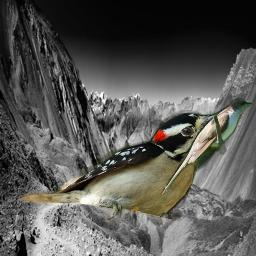Cuckoo: (160, 98, 252, 196)
Woodpecker: (19, 105, 228, 224)
